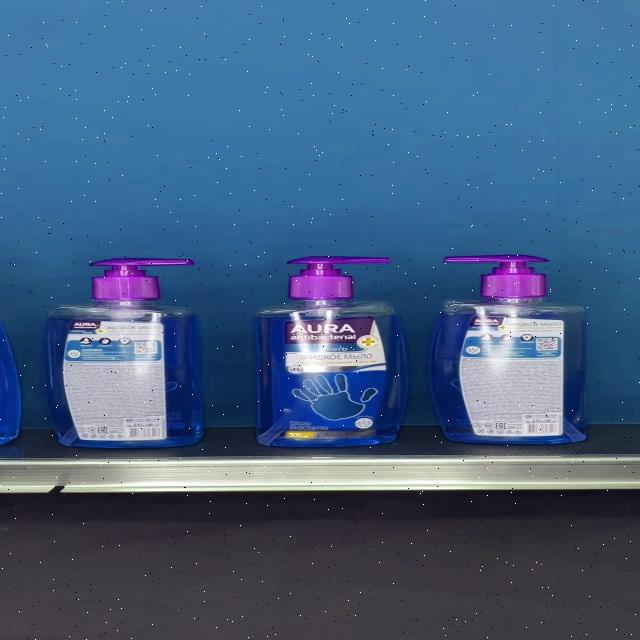Bottle: (43, 258, 203, 449), (253, 257, 409, 446), (431, 255, 586, 444)
Cap: (442, 255, 548, 298), (286, 257, 390, 299), (90, 258, 192, 300)
